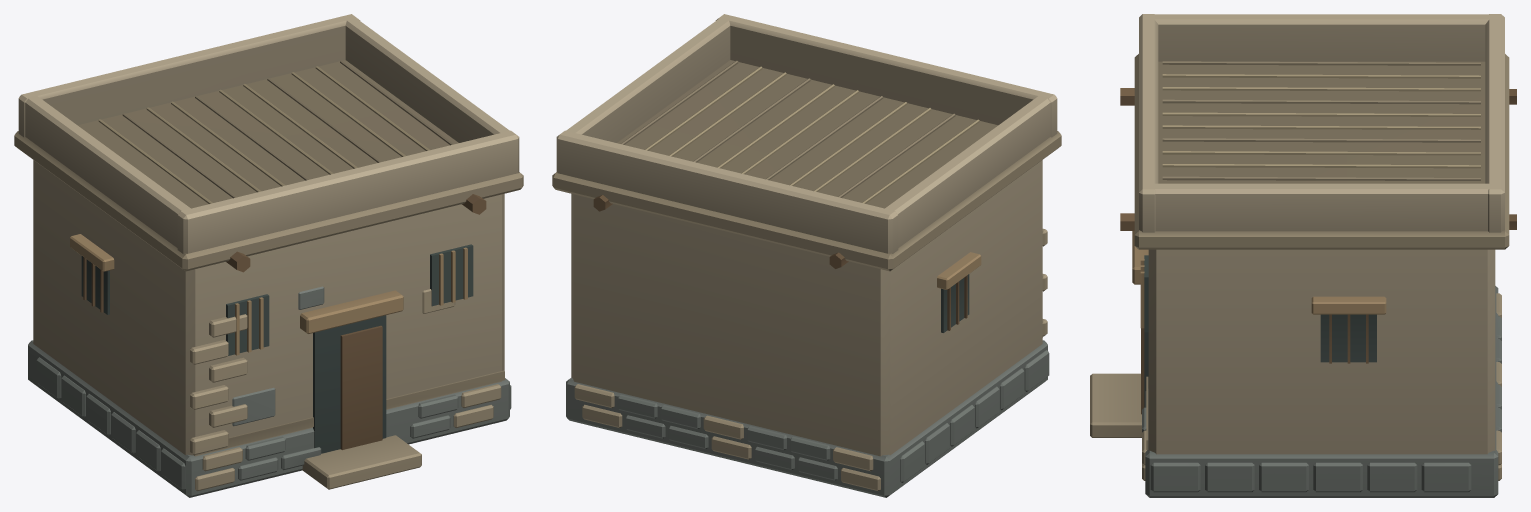
Rendered from house.glb.
3 renders of one model, left to right at view 1: azimuth 30°, elevation 25°; view 2: azimuth 150°, elevation 25°; view 3: azimuth 270°, elevation 25°, orthographic. The views are drawn at different scales.
Parts seen in each view (by area): view 1: house.001; view 2: house.001; view 3: house.001.
Part boxes in pixels (<box>): house.001: <box>14,14,523,497</box>; house.001: <box>552,14,1061,497</box>; house.001: <box>1090,14,1516,497</box>.
Bounding box in the file's own units: 3.96 × 3.18 × 3.94.
